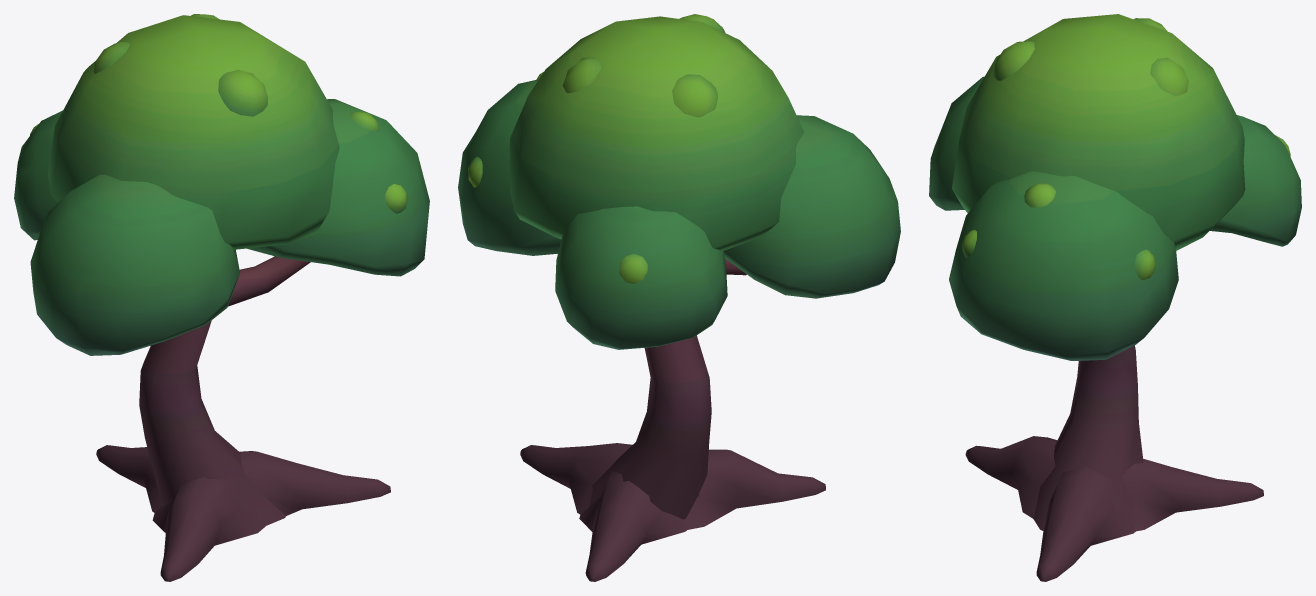
The model's file is Tree_1.fbx.
3 renders of one model, left to right at view 1: azimuth 30°, elevation 25°; view 2: azimuth 150°, elevation 25°; view 3: azimuth 270°, elevation 25°, orthographic. The views are drawn at different scales.
Visible parts, largest first — view 1: Tree_1; view 2: Tree_1; view 3: Tree_1.
Boxes of the visible parts, x1,y1,x2,y2 form: Tree_1: (14, 14, 429, 581); Tree_1: (458, 14, 900, 581); Tree_1: (929, 14, 1301, 581).
Bounding box in the file's own units: 319 × 378 × 269.
